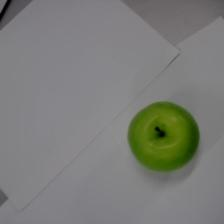green: (128, 101, 200, 172)
